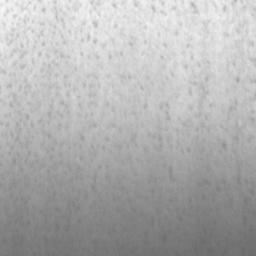Pitted surface: (190, 2, 198, 13)
